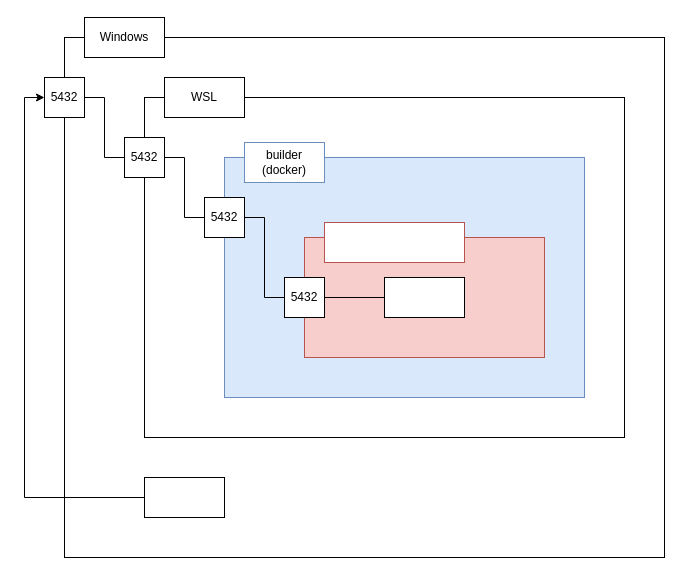
The diagram is 682 pixels wide and 575 high, and some of its shapes have lost their labels. The centre of each missing label's shape, as x and y in pixels:
"DBeaver etc..." belongs at pixel 184 497.
"dev environment (docker-in-docker)" belongs at pixel 394 242.
"Postgres" belongs at pixel 424 297.
